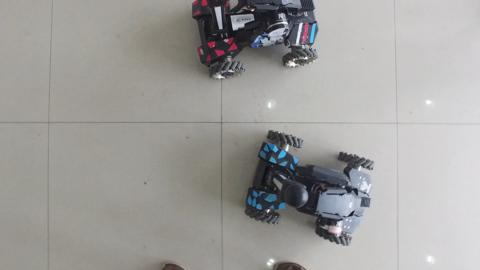chariot: (242, 127, 377, 252), (186, 1, 323, 88)
